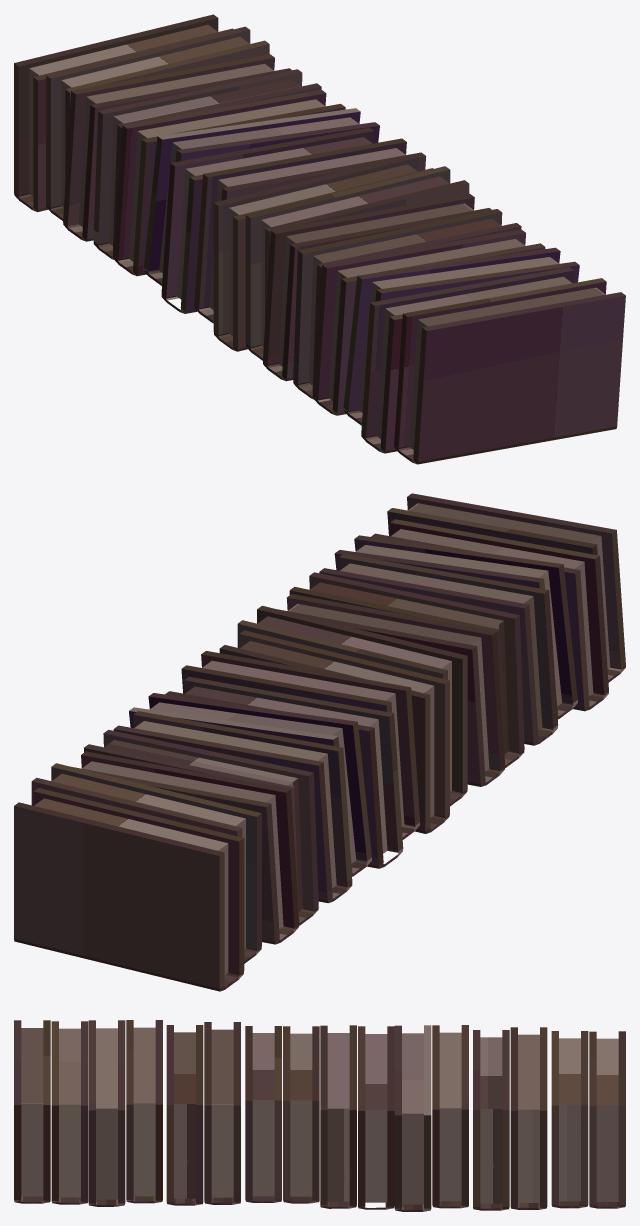
The model's file is skill_books.glb.
The picture shows the model from 3 angles, top to bottom: view 1: azimuth 30°, elevation 25°; view 2: azimuth 150°, elevation 25°; view 3: azimuth 270°, elevation 25°; orthographic projection. The views are drawn at different scales.
Visible parts, largest first — view 1: Box002_ORANGE_0; view 2: Box002_ORANGE_0; view 3: Box002_ORANGE_0.
Part boxes in pixels (<box>): Box002_ORANGE_0: <box>14,14,625,464</box>; Box002_ORANGE_0: <box>14,493,625,991</box>; Box002_ORANGE_0: <box>14,1020,625,1211</box>.
Bounding box in the file's own units: 86.11 × 60.15 × 272.
1 material, 1 textured.
